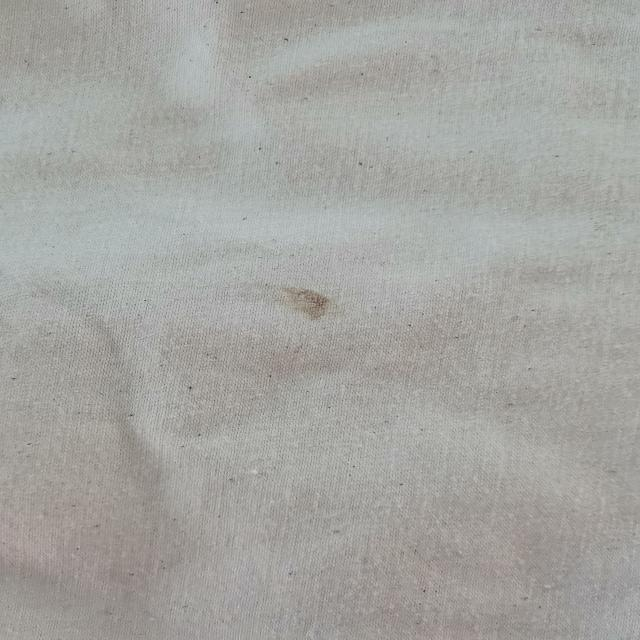taaaches: (232, 270, 366, 330)
